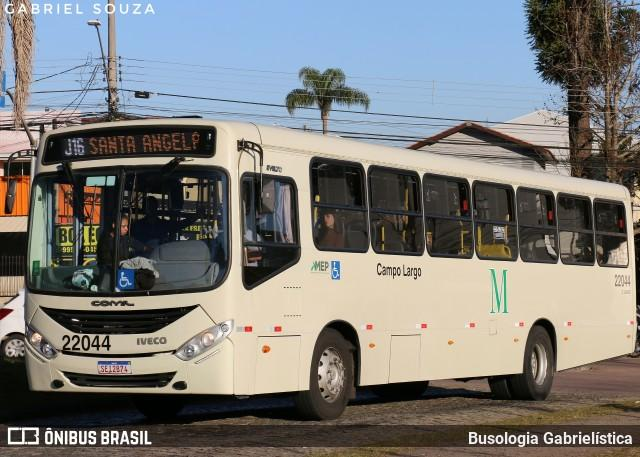SANTA ANGELA: (86, 129, 206, 160)
